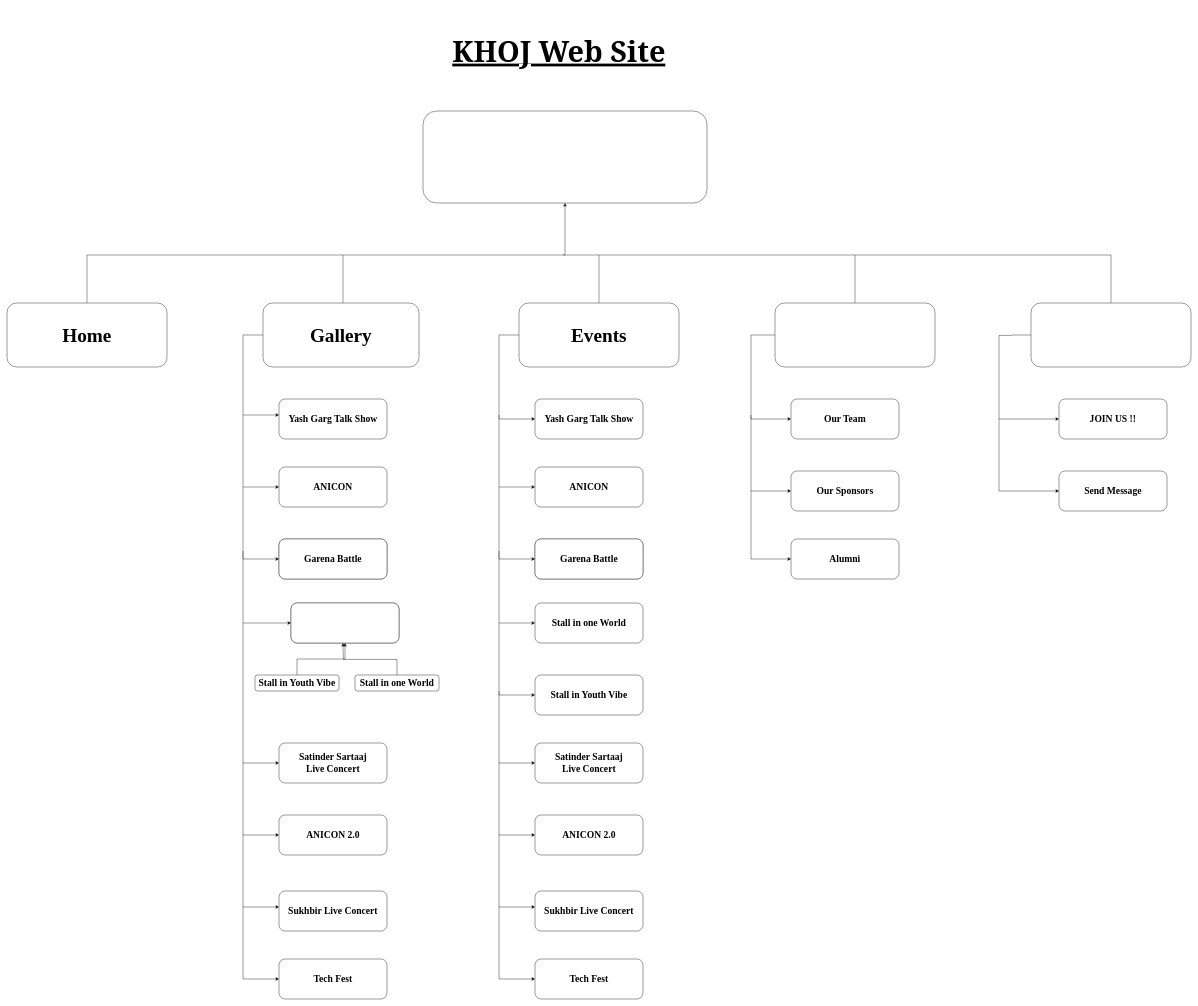
Some shapes in this 1198 by 1006 pixel diagram are drawn without their labels. The shapes that lost their labels are listed below. From the top down, each one's box as (x1, y1, x2, y2) in pixels, then its label:
(423, 111, 707, 203): khojorg.tech
(775, 303, 935, 367): About Us
(1031, 303, 1191, 367): Contact US
(291, 603, 399, 643): Carnival
